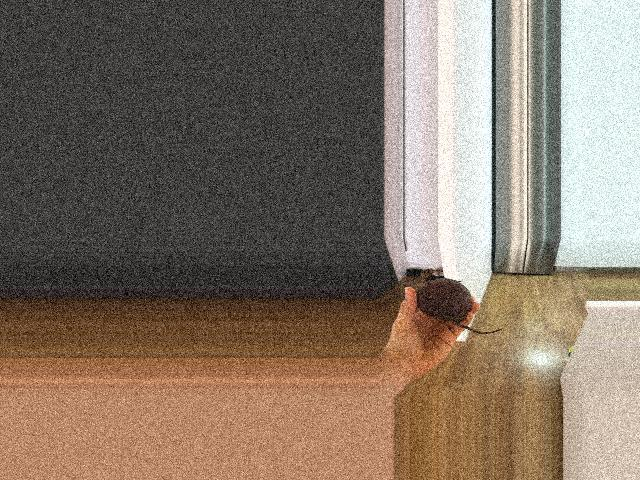beet: (417, 275, 503, 334)
